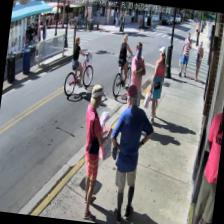person: (99, 82, 158, 224), (72, 82, 115, 221), (122, 41, 148, 132), (144, 44, 168, 125), (68, 34, 91, 88), (114, 32, 136, 88)
